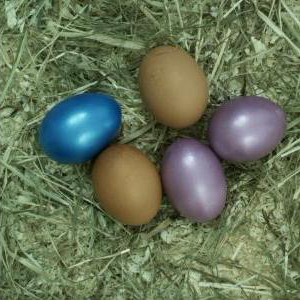egg: (39, 93, 122, 164), (139, 46, 209, 129), (92, 145, 162, 228), (162, 140, 228, 223), (209, 97, 287, 163)
